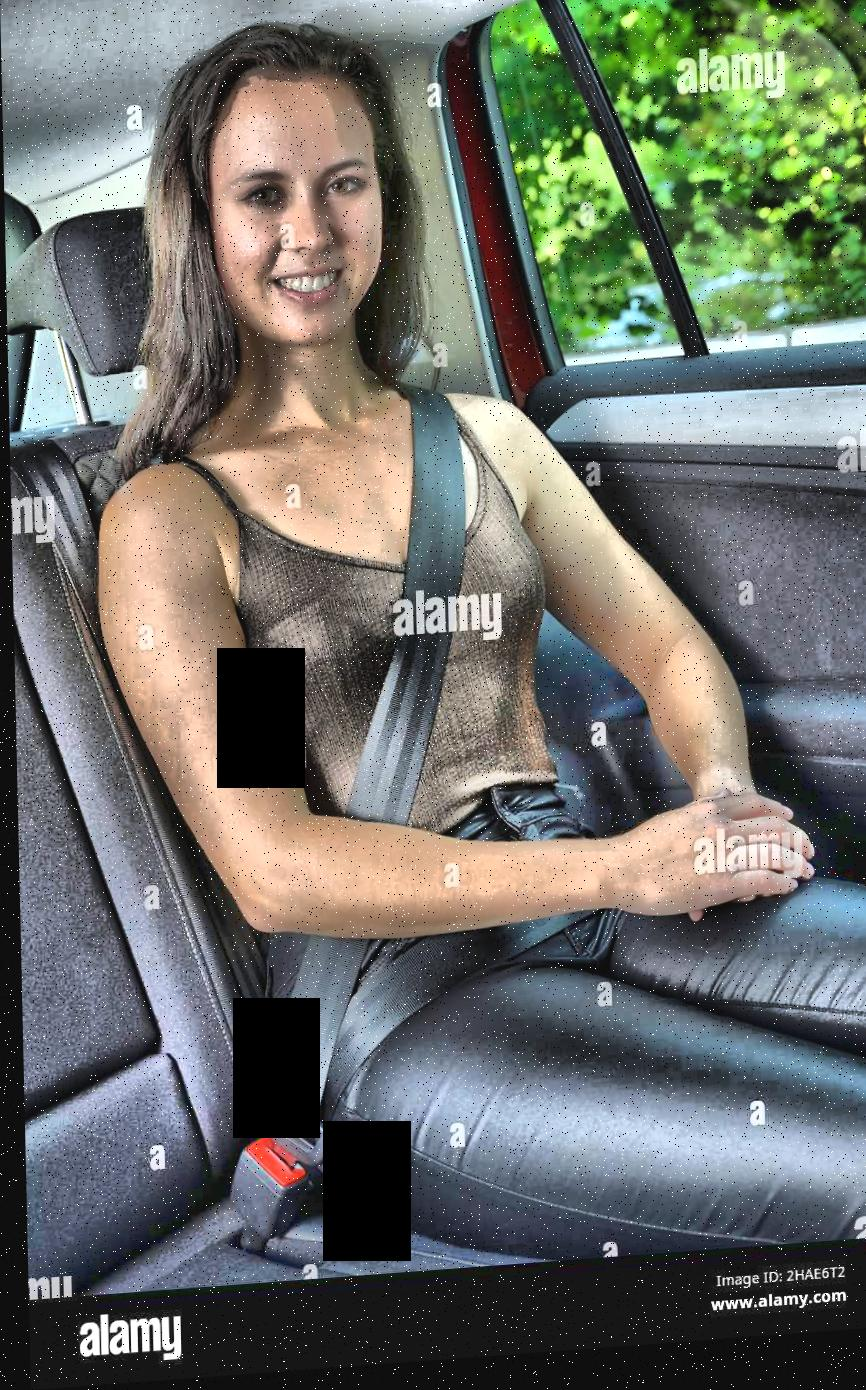seatbelt: (219, 387, 587, 1250)
